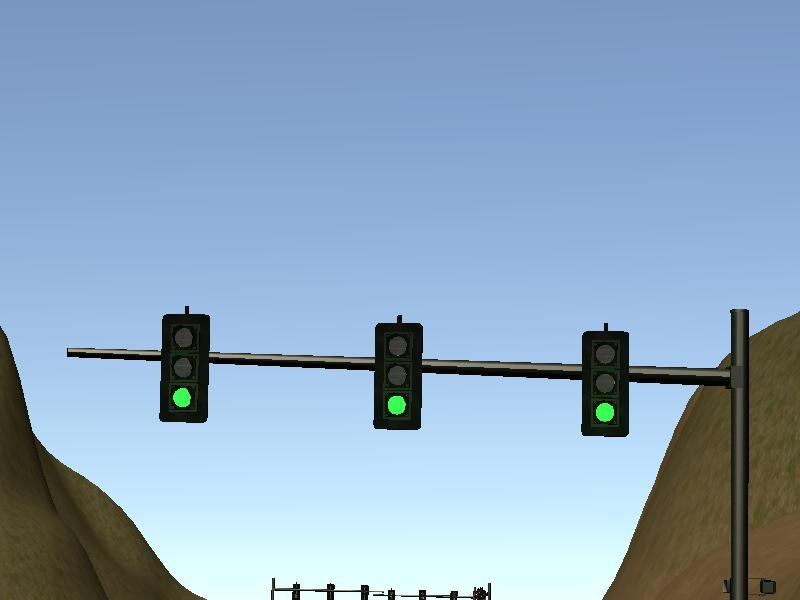traffic_light_green: (62, 299, 729, 440)
